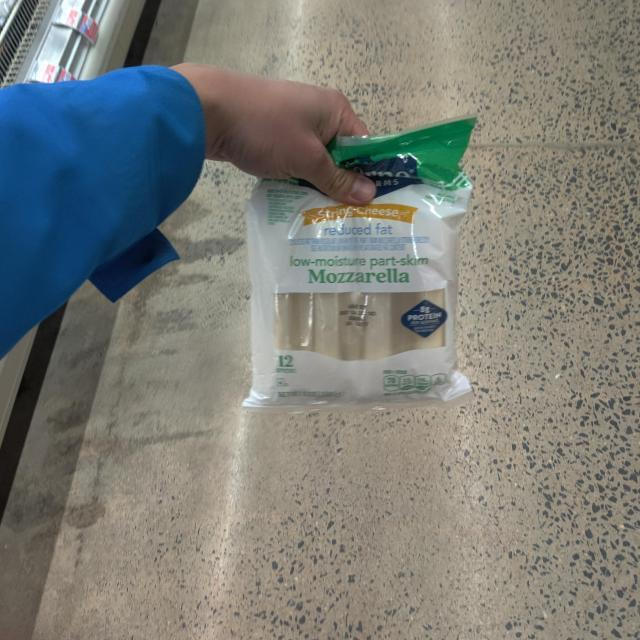Cheese: (233, 118, 507, 438)
